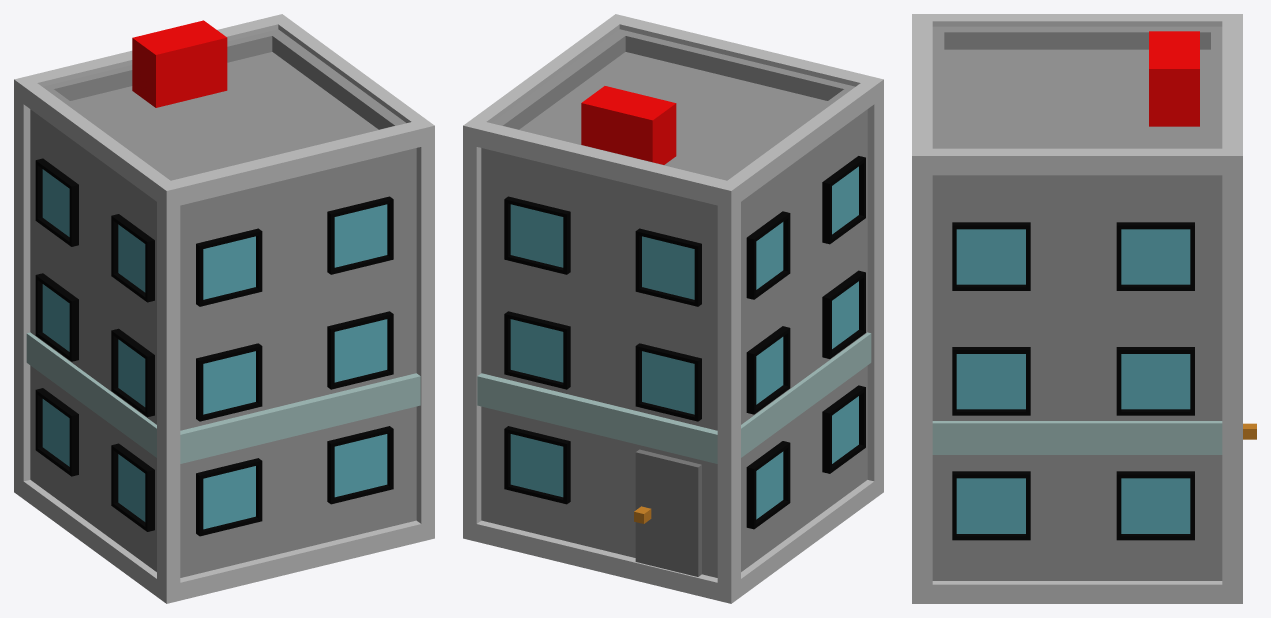
Rendered from House21.fbx.
The picture shows the model from 3 angles, left to right: view 1: azimuth 30°, elevation 25°; view 2: azimuth 150°, elevation 25°; view 3: azimuth 270°, elevation 25°; orthographic projection. The views are drawn at different scales.
Visible parts, largest first — view 1: House.021; view 2: House.021; view 3: House.021.
Boxes of the visible parts, x1,y1,x2,y2 form: House.021: [14, 14, 434, 603]; House.021: [463, 14, 883, 603]; House.021: [912, 14, 1256, 603].
Size of the model in its own units: 787 by 1244 by 805.
